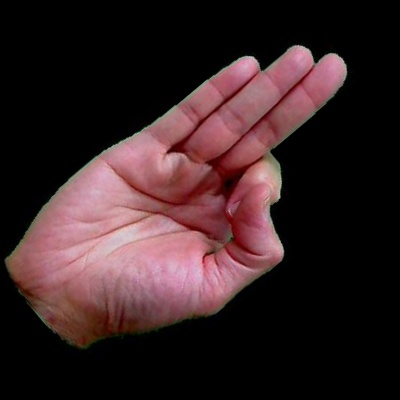f: (1, 12, 400, 400)
